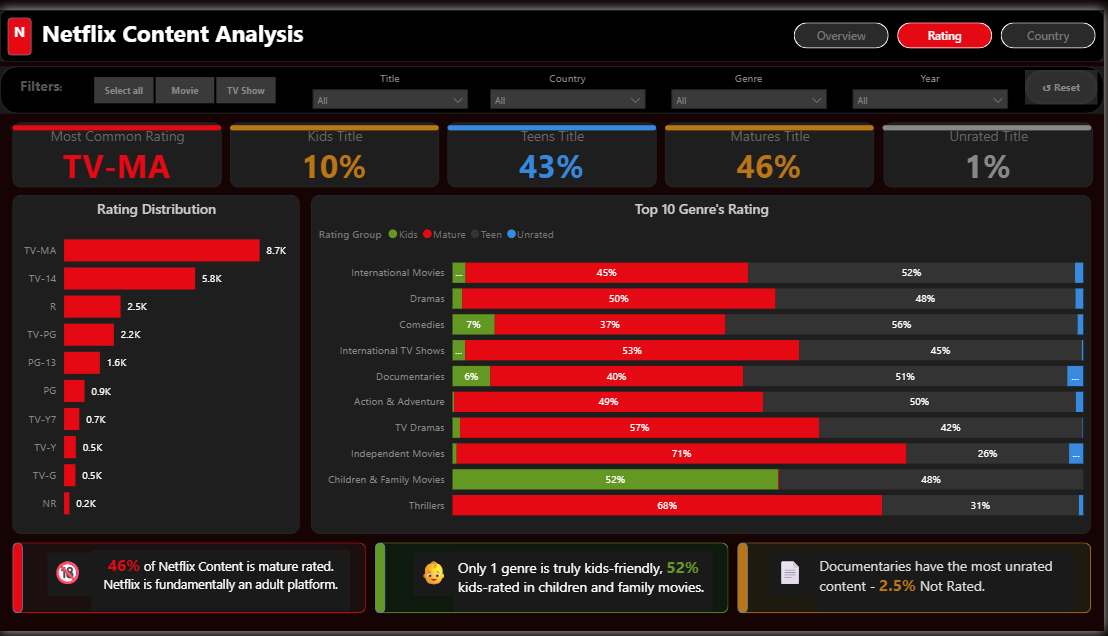

This screenshot's page, from the dashboard's own definition file:
{"tool":"powerbi","page":{"name":"Rating","canvas":[1280,720],"ordinal":1},"visuals":[{"type":"shape","box":[0,0,1280,60],"z":0,"group":"g11"},{"type":"shape","box":[0,65,1280,55],"z":0,"group":"g10"},{"type":"card","title":"Most Common Rating","fields":{"Values":["Measure Table.Most Common Rating"]},"box":[15,130,242,75],"z":0,"group":"g5"},{"type":"card","title":"Kids Title","fields":{"Values":["Measure Table.Kids %"]},"box":[267,130,242,75],"z":0,"group":"g9"},{"type":"card","title":"Teens Title","fields":{"Values":["Measure Table.Teen %"]},"box":[519.7,130,242,75],"z":0,"group":"g8"},{"type":"card","title":"Matures Title","fields":{"Values":["Measure Table.Mature %"]},"box":[771,130,242,75],"z":0,"group":"g6"},{"type":"card","title":"Unrated Title","fields":{"Values":["Measure Table.Unrated %"]},"box":[1023.9,130,242,75],"z":0,"group":"g7"},{"type":"barChart","title":"Rating Distribution","fields":{"Category":["clean_netflix_shows_movies_dataset.rating"],"Y":["CountNonNull(clean_netflix_shows_movies_dataset.rating)"]},"box":[15,215,332.5,393],"z":0},{"type":"shape","box":[15.5,618,409.9,82],"z":0,"group":"g3"},{"type":"shape","box":[435.2,618,409.9,82],"z":0,"group":"g2"},{"type":"group","id":"g1","title":"Insight3","box":[855,618,410,82],"z":0,"group":"g4"},{"type":"shape","box":[855,618,410,82],"z":0,"group":"g1"},{"type":"pageNavigator","box":[920,15,352,30],"z":1000,"group":"g11"},{"type":"actionButton","box":[1188,69,84,40],"z":1000,"group":"g10"},{"type":"shape","box":[15,130,242,12.3],"z":1000,"group":"g5"},{"type":"shape","box":[267,130,242,12.3],"z":1000,"group":"g9"},{"type":"shape","box":[519,130,242,12.3],"z":1000,"group":"g8"},{"type":"shape","box":[771,130,242,12.3],"z":1000,"group":"g6"},{"type":"shape","box":[1023,130,242,12.3],"z":1000,"group":"g7"},{"type":"hundredPercentStackedBarChart","title":"Top 10 Genre''s Rating","fields":{"Category":["clean_netflix_shows_movies_dataset.genre"],"Series":["clean_netflix_shows_movies_dataset.Rating Group"],"Y":["Count(clean_netflix_shows_movies_dataset.show_id)"]},"box":[360.7,215,904.3,393],"z":1000},{"type":"shape","box":[15,618,12,82],"z":1000,"group":"g3"},{"type":"group","id":"g2","title":"Insight2","box":[435,618,410.1,82],"z":1000,"group":"g4"},{"type":"shape","box":[435,618,12,82],"z":1000,"group":"g2"},{"type":"shape","box":[855,618,12,82],"z":1000,"group":"g1"},{"type":"textbox","box":[527,628,300,70],"z":1500,"group":"g2"},{"type":"shape","box":[8,8,28,44],"z":2000,"group":"g11"},{"type":"slicer","title":"Year","fields":{"Values":["clean_netflix_shows_movies_dataset.year_added"]},"box":[978,70,200,45],"z":2000,"group":"g10"},{"type":"group","id":"g3","title":"Insight1","box":[15,618,410.4,82],"z":2000,"group":"g4"},{"type":"textbox","box":[106,627,300,70],"z":2000,"group":"g3"},{"type":"textbox","box":[945,628,300,70],"z":2000,"group":"g1"},{"type":"textbox","box":[480,630,50,50],"z":2000,"group":"g2"},{"type":"group","id":"g4","title":"Insights","box":[15,618,1250,82],"z":2500},{"type":"textbox","box":[892,629.5,50,50.3],"z":2500,"group":"g1"},{"type":"textbox","box":[8,8,28,45],"z":3000,"group":"g11"},{"type":"slicer","title":"Title","fields":{"Values":["clean_netflix_shows_movies_dataset.title"]},"box":[352,70,200,45],"z":3000,"group":"g10"},{"type":"textbox","box":[56,630,50,50],"z":3000,"group":"g3"},{"type":"textbox","box":[44,8,580,44],"z":4000,"group":"g11"},{"type":"slicer","title":"Type","fields":{"Values":["clean_netflix_shows_movies_dataset.type"]},"box":[88,75,250,35],"z":4000,"group":"g10"},{"type":"group","id":"g5","title":"Most rating grp","box":[15,130,242,75],"z":4000},{"type":"slicer","title":"Country","fields":{"Values":["clean_netflix_shows_movies_dataset.country"]},"box":[558,70,200,45],"z":5000,"group":"g10"},{"type":"group","id":"g6","title":"Mature title grp","box":[771,130,242,75],"z":5000},{"type":"slicer","title":"Genre","fields":{"Values":["clean_netflix_shows_movies_dataset.genre"]},"box":[768,70,200,45],"z":6000,"group":"g10"},{"type":"group","id":"g7","title":"Unrated title grp","box":[1023,130,242.9,75],"z":6000},{"type":"textbox","box":[8.6,73.6,78,33],"z":7000,"group":"g10"},{"type":"group","id":"g8","title":"Teens tittle grp","box":[519,130,242.7,75],"z":7000},{"type":"group","id":"g9","title":"Kids tittle grp","box":[267,130,242,75],"z":11000},{"type":"group","id":"g10","title":"Slicer panel","box":[0,65,1280,55],"z":11250},{"type":"group","id":"g11","title":"Dashboard Title Panel","box":[0,0,1280,60],"z":11500}]}

Visuals, with their boxes in screenshot pixels (x1, y1, x2, y2), scaled from the page's 1280x720 canvas onto the 1108x636 screenshot:
shape: x1=0, y1=0, x2=1107, y2=53
shape: x1=0, y1=57, x2=1107, y2=106
"Most Common Rating" card: x1=13, y1=115, x2=222, y2=181
"Kids Title" card: x1=231, y1=115, x2=441, y2=181
"Teens Title" card: x1=450, y1=115, x2=659, y2=181
"Matures Title" card: x1=667, y1=115, x2=877, y2=181
"Unrated Title" card: x1=886, y1=115, x2=1096, y2=181
"Rating Distribution" barChart: x1=13, y1=190, x2=301, y2=537
shape: x1=13, y1=546, x2=368, y2=618
shape: x1=377, y1=546, x2=732, y2=618
"Insight3" group: x1=740, y1=546, x2=1095, y2=618
shape: x1=740, y1=546, x2=1095, y2=618
pageNavigator: x1=796, y1=13, x2=1101, y2=40
actionButton: x1=1028, y1=61, x2=1101, y2=96
shape: x1=13, y1=115, x2=222, y2=126
shape: x1=231, y1=115, x2=441, y2=126
shape: x1=449, y1=115, x2=659, y2=126
shape: x1=667, y1=115, x2=877, y2=126
shape: x1=886, y1=115, x2=1095, y2=126
"Top 10 Genre''s Rating" hundredPercentStackedBarChart: x1=312, y1=190, x2=1095, y2=537
shape: x1=13, y1=546, x2=23, y2=618
"Insight2" group: x1=377, y1=546, x2=732, y2=618
shape: x1=377, y1=546, x2=387, y2=618
shape: x1=740, y1=546, x2=750, y2=618
textbox: x1=456, y1=555, x2=716, y2=617
shape: x1=7, y1=7, x2=31, y2=46
"Year" slicer: x1=847, y1=62, x2=1020, y2=102
"Insight1" group: x1=13, y1=546, x2=368, y2=618
textbox: x1=92, y1=554, x2=351, y2=616
textbox: x1=818, y1=555, x2=1078, y2=617
textbox: x1=416, y1=556, x2=459, y2=601
"Insights" group: x1=13, y1=546, x2=1095, y2=618
textbox: x1=772, y1=556, x2=815, y2=600
textbox: x1=7, y1=7, x2=31, y2=47
"Title" slicer: x1=305, y1=62, x2=478, y2=102
textbox: x1=48, y1=556, x2=92, y2=601
textbox: x1=38, y1=7, x2=540, y2=46
"Type" slicer: x1=76, y1=66, x2=293, y2=97
"Most rating grp" group: x1=13, y1=115, x2=222, y2=181
"Country" slicer: x1=483, y1=62, x2=656, y2=102
"Mature title grp" group: x1=667, y1=115, x2=877, y2=181
"Genre" slicer: x1=665, y1=62, x2=838, y2=102
"Unrated title grp" group: x1=886, y1=115, x2=1096, y2=181
textbox: x1=7, y1=65, x2=75, y2=94
"Teens tittle grp" group: x1=449, y1=115, x2=659, y2=181
"Kids tittle grp" group: x1=231, y1=115, x2=441, y2=181
"Slicer panel" group: x1=0, y1=57, x2=1107, y2=106
"Dashboard Title Panel" group: x1=0, y1=0, x2=1107, y2=53
